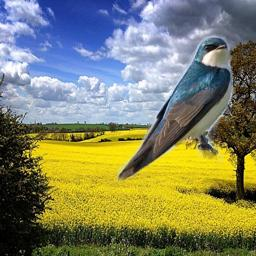Swallow: (112, 31, 238, 183)
